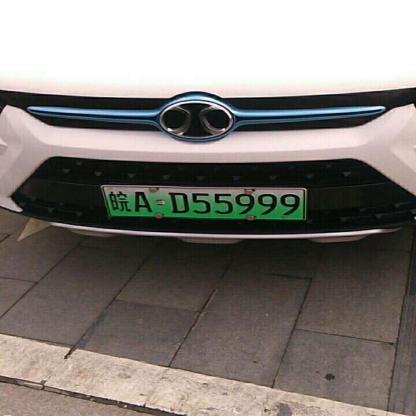lp: (103, 186, 304, 219)
